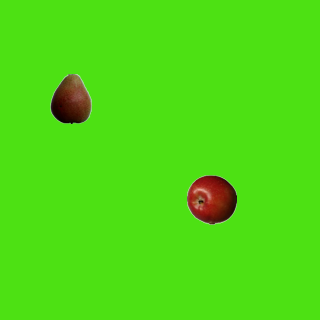Apple Braeburn: (186, 174, 236, 224)
Pear Forelle: (45, 73, 95, 123)
